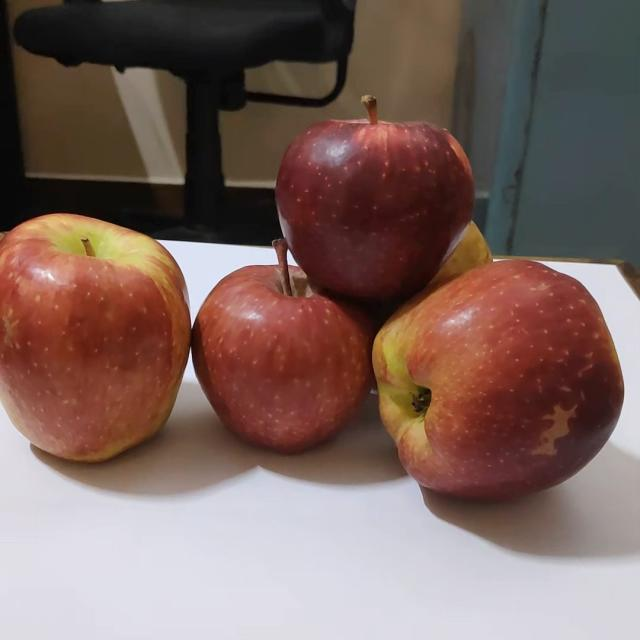apple: (368, 263, 628, 513), (0, 215, 193, 473), (269, 98, 480, 312), (188, 240, 373, 468), (408, 218, 500, 298)
